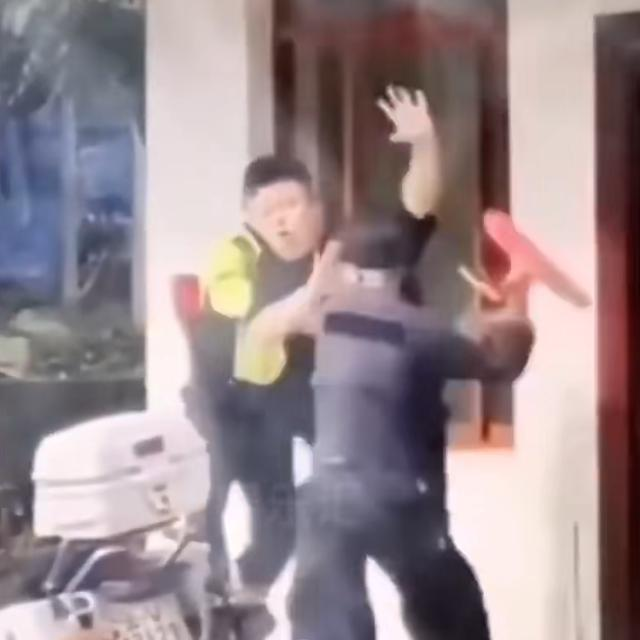fight: (213, 142, 561, 417)
